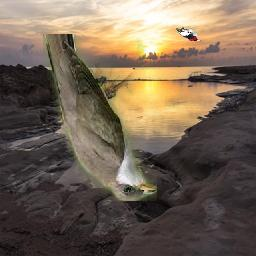Cuckoo: (43, 35, 157, 202)
Woodpecker: (176, 27, 202, 42)
